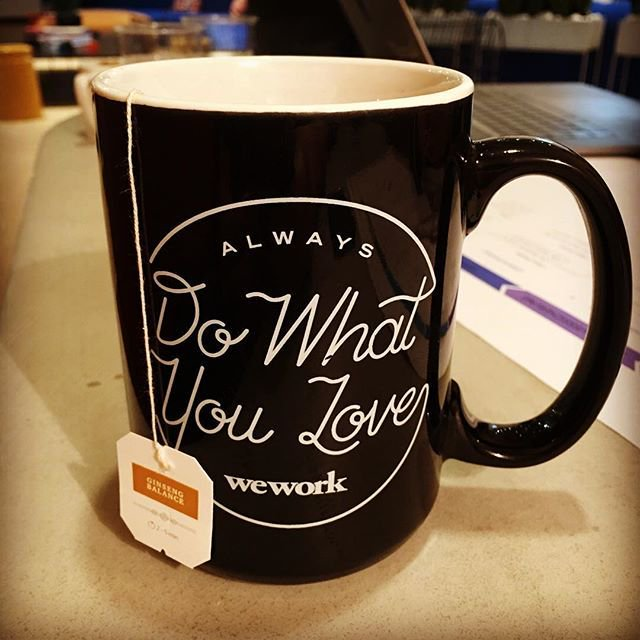wework: (221, 468, 349, 497)
